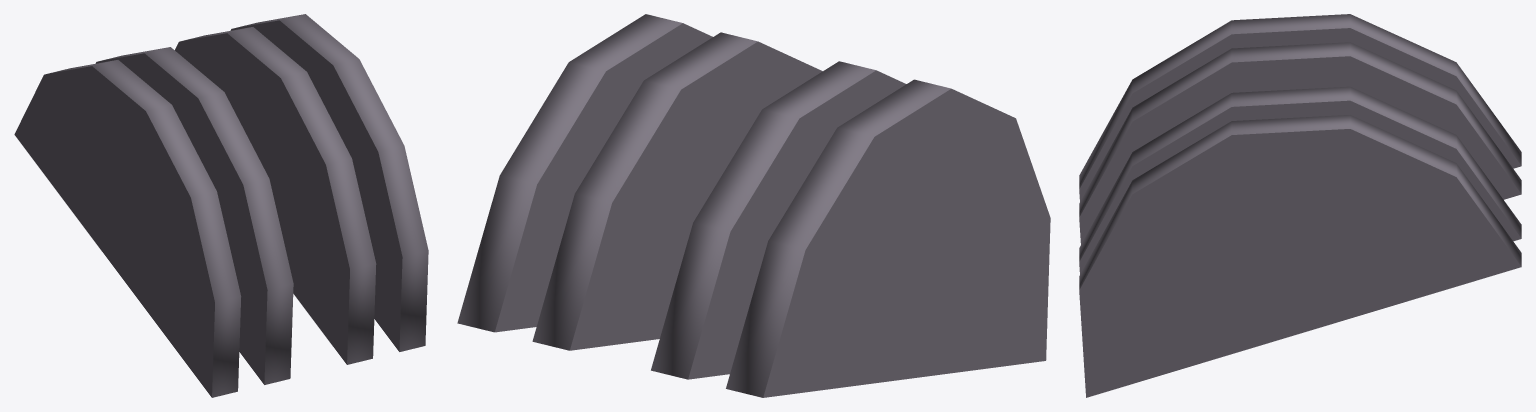
The model's file is Pull_level_base.glb.
3 renders of one model, left to right at view 1: azimuth 30°, elevation 25°; view 2: azimuth 150°, elevation 25°; view 3: azimuth 270°, elevation 25°, orthographic. The views are drawn at different scales.
Visible parts, largest first — view 1: Lever_base; view 2: Lever_base; view 3: Lever_base.
Boxes of the visible parts, x1=… form: Lever_base: x1=14, y1=14, x2=428, y2=397; Lever_base: x1=457, y1=14, x2=1050, y2=397; Lever_base: x1=1079, y1=14, x2=1521, y2=397.
Size of the model in its own units: 0.3326 by 0.3634 by 0.5416.
1 material, 1 textured.
